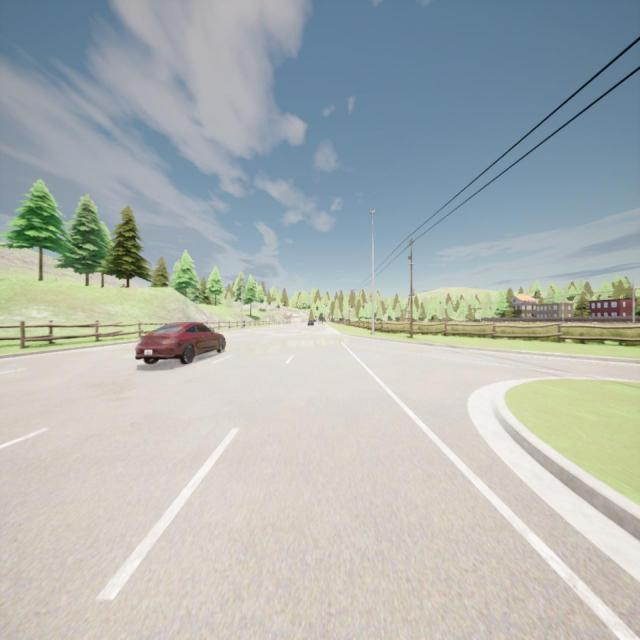Vehicle: (135, 322, 227, 367), (307, 320, 314, 326)
